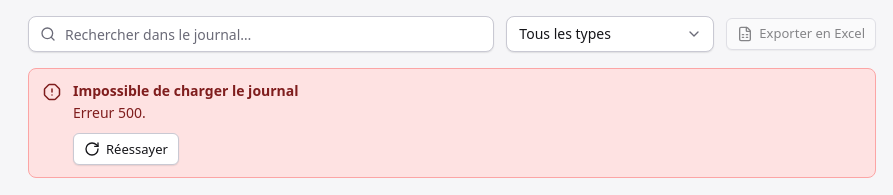
Scenario: JournalTab › montre une erreur de chargement avec « Réessayer », qui relit la première page
Expected: the text "Impossible de charger le journal" is shown, [73, 81, 298, 100]
Click the button "Réessayer" at (126, 149), box [73, 133, 179, 165]
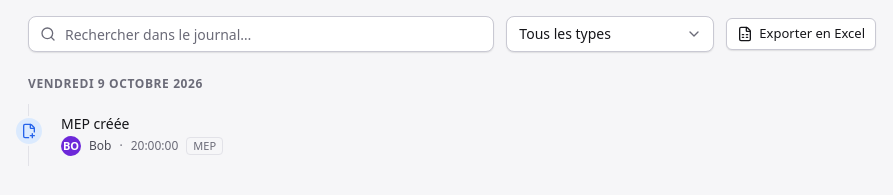
Expected: the text "MEP créée" is shown, [61, 114, 130, 133]
Expected: the text "Impossible de charger le journal" is gone
